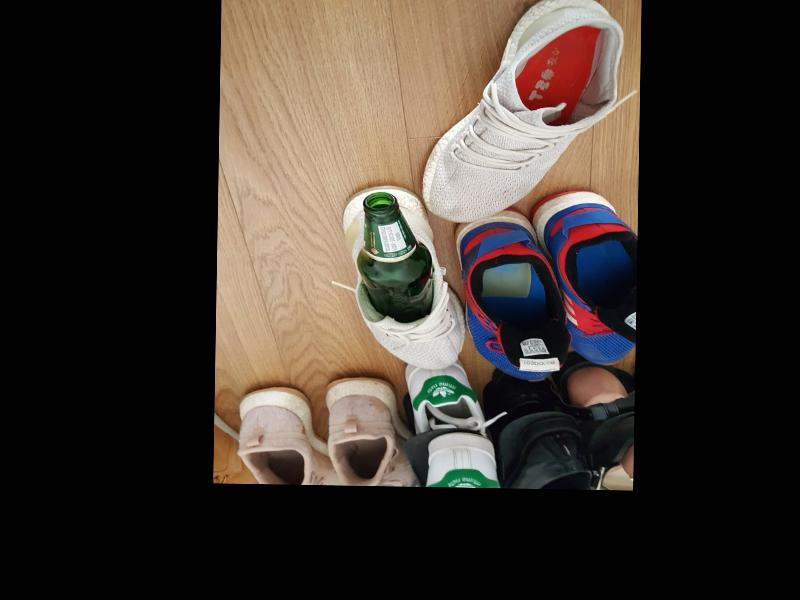Beer: (356, 191, 436, 321)
